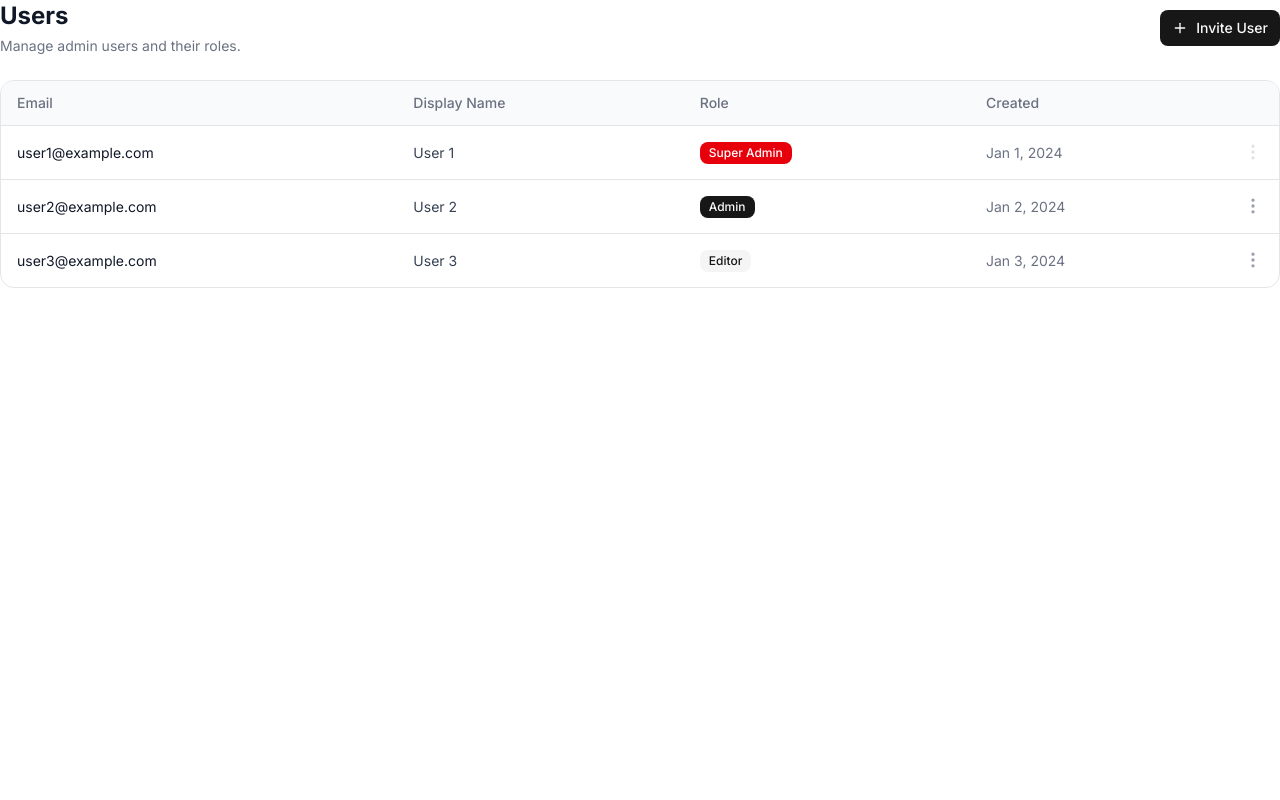
Test: UsersManager › opens delete confirmation dialog with user email
This screenshot has width=1280, height=800.
Click the button without text in the row of "user2@example.com" at coordinates (1253, 206), box [1239,192,1267,220]
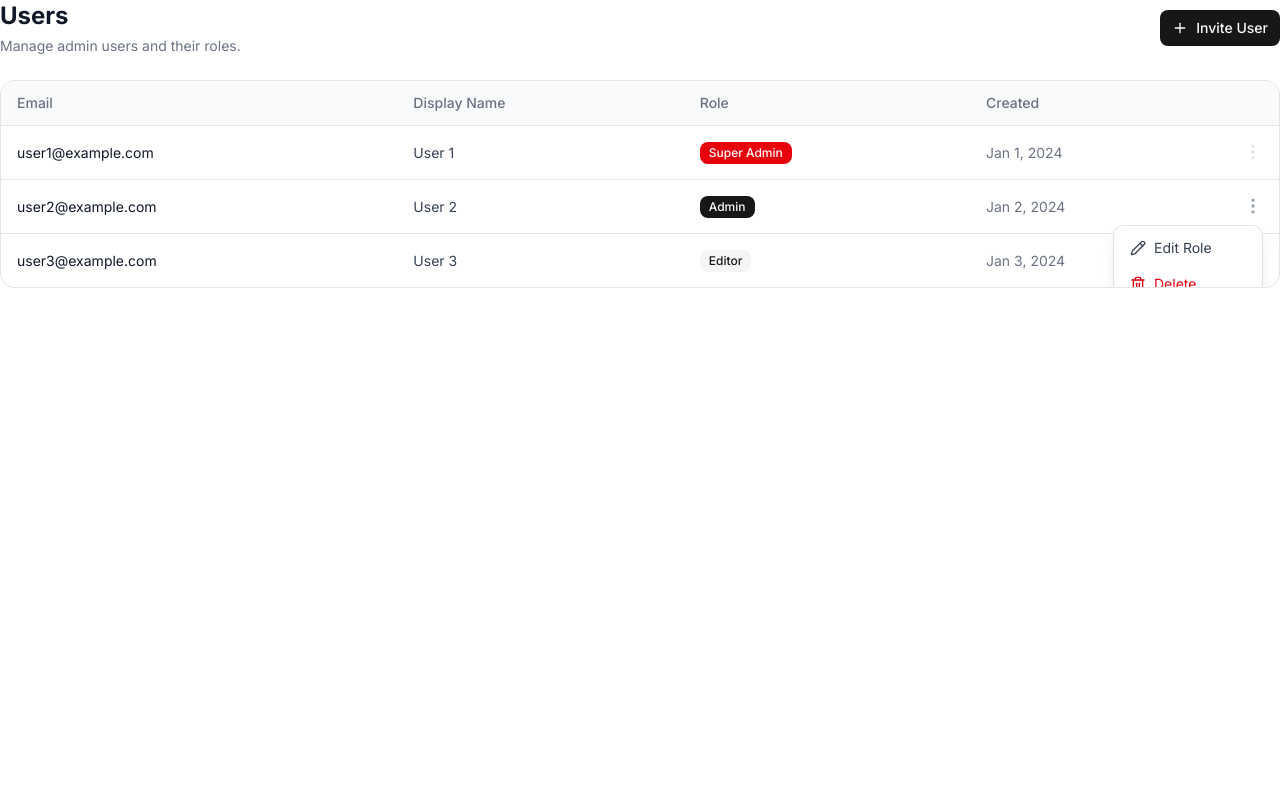
Click the button "Delete" at coordinates (1188, 284), box [1114,266,1262,302]
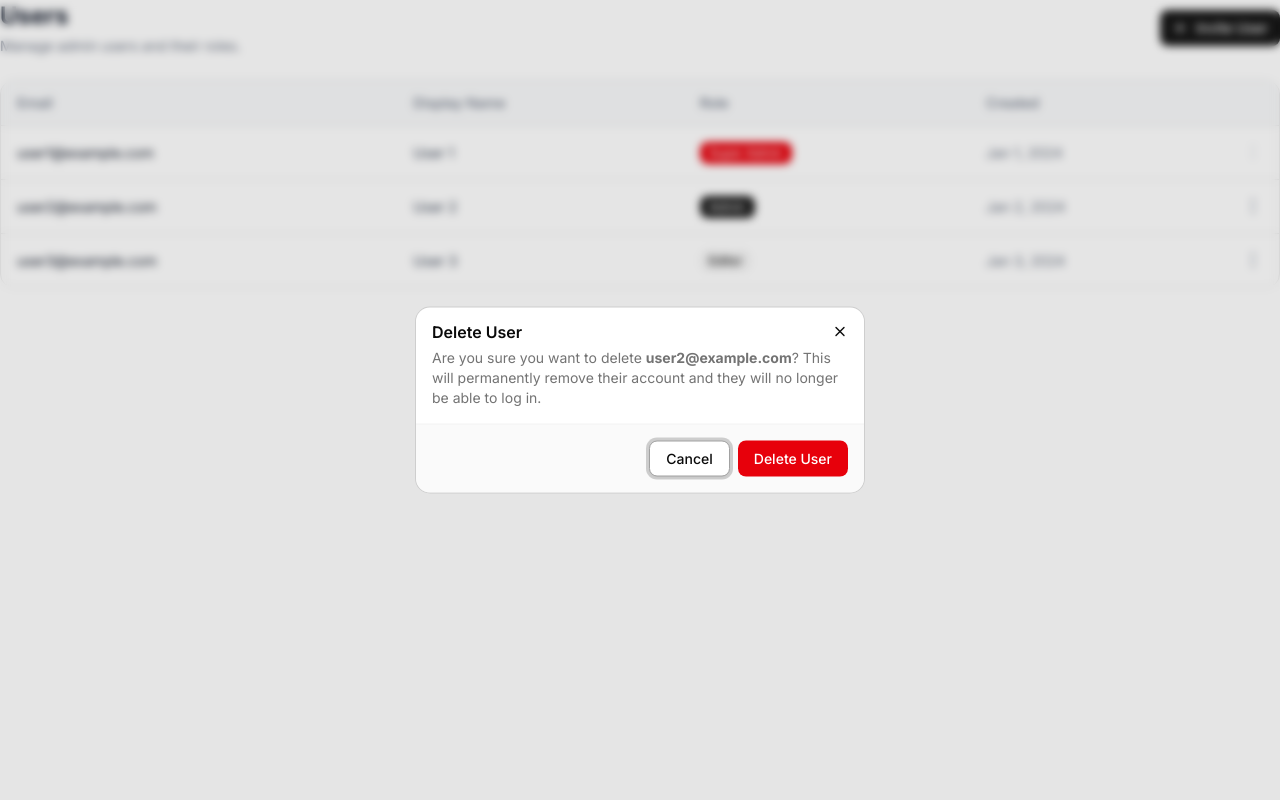
Now the text "Are you sure you want to delete" is shown, box [432,348,642,366]
